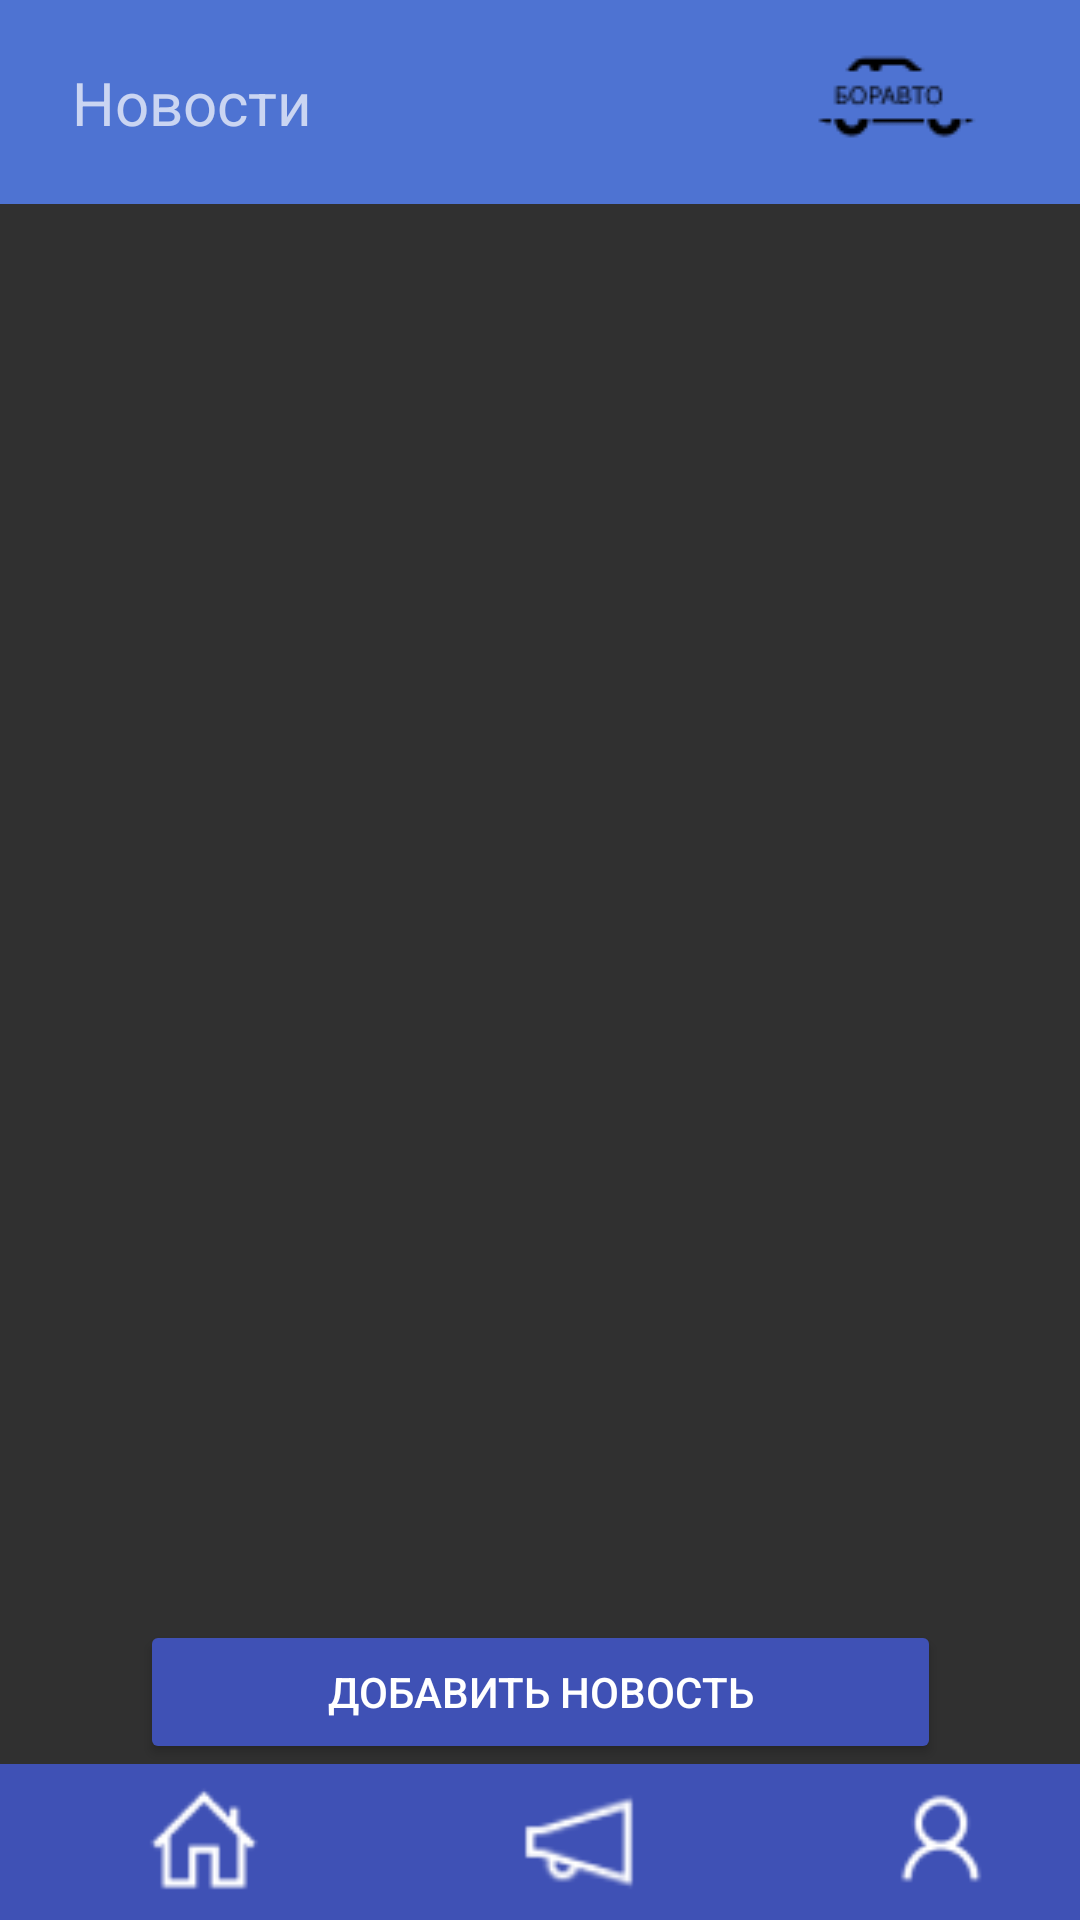

Screen size 1080 x 1920. Icon name, then its center in pixels as (x=x, y=y):
contacts: (x=941, y=1838)
home: (x=204, y=1840)
news: (x=579, y=1842)
